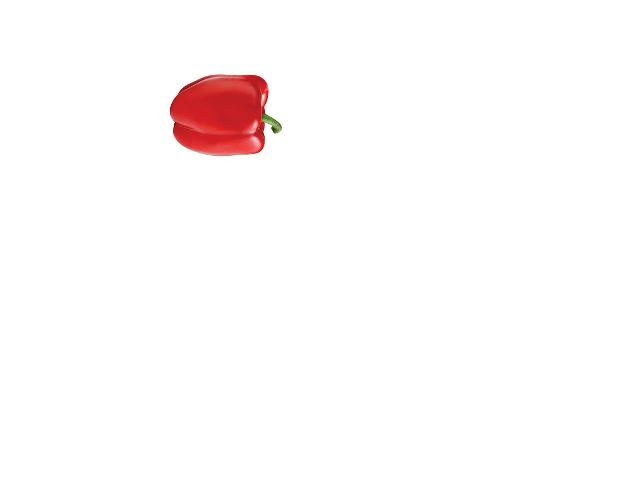bell_pepper: (166, 69, 281, 160)
